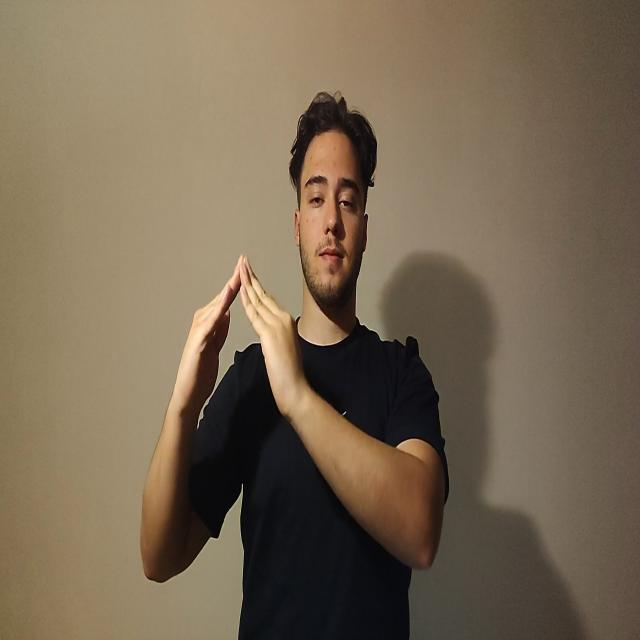house: (178, 256, 304, 422)
